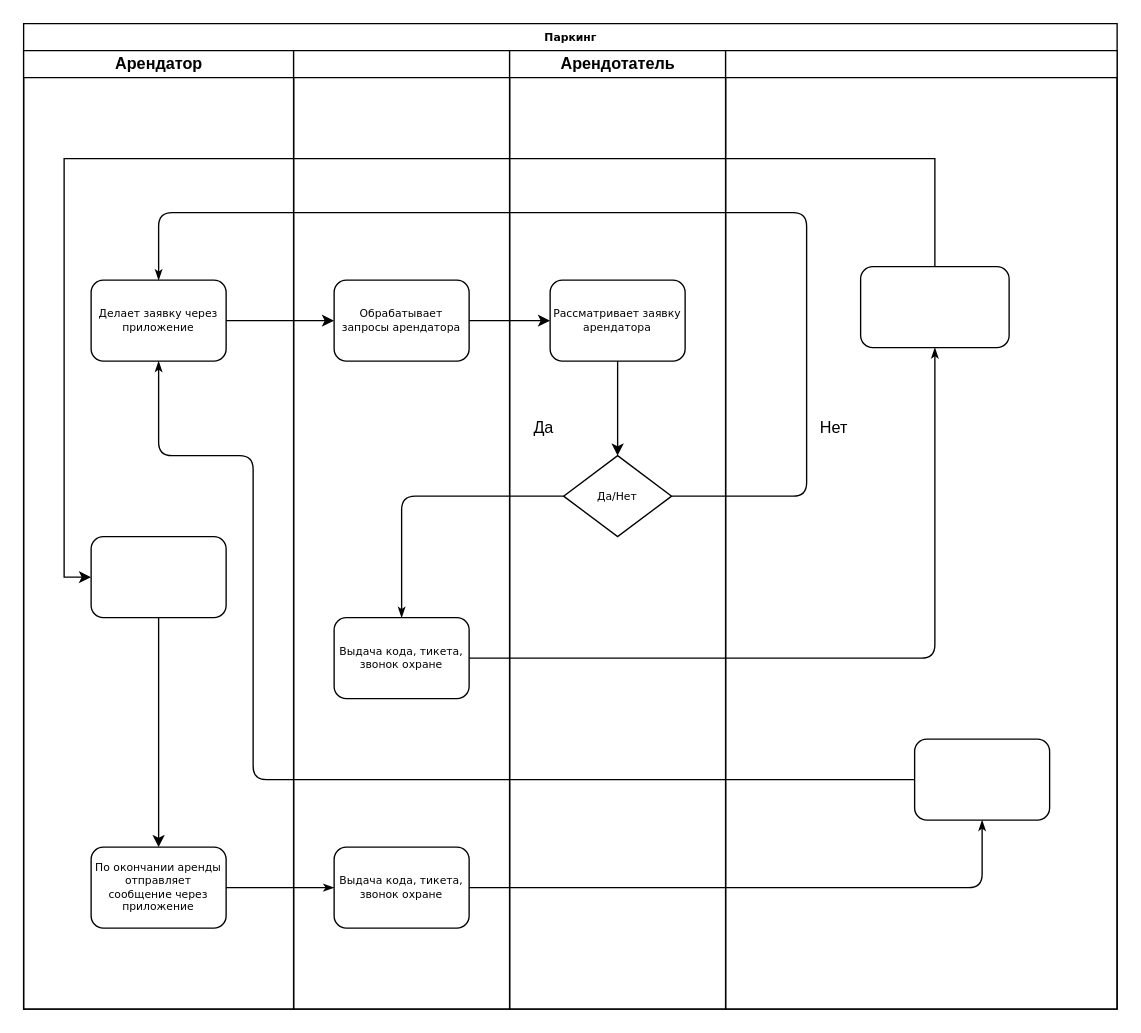
The diagram is 1141 pixels wide and 1033 high, and some of its shapes have lost their labels. The shapes that lost their labels are listed below. From the top down, each one's box as (x1, y1, x2, y2) in pixels, then its label:
(859, 265, 1009, 348): Открывает шлагбаум вручную/автоматически по коду/звонку
(292, 49, 510, 1009): Приложение
(724, 49, 1117, 1009): Шлагбаум(пост охраны/автоматические ворота
(90, 535, 226, 618): Заезжает.паркуется
(913, 738, 1050, 820): Закрывает шлагбаум вручную/автоматически по коду/звонку
